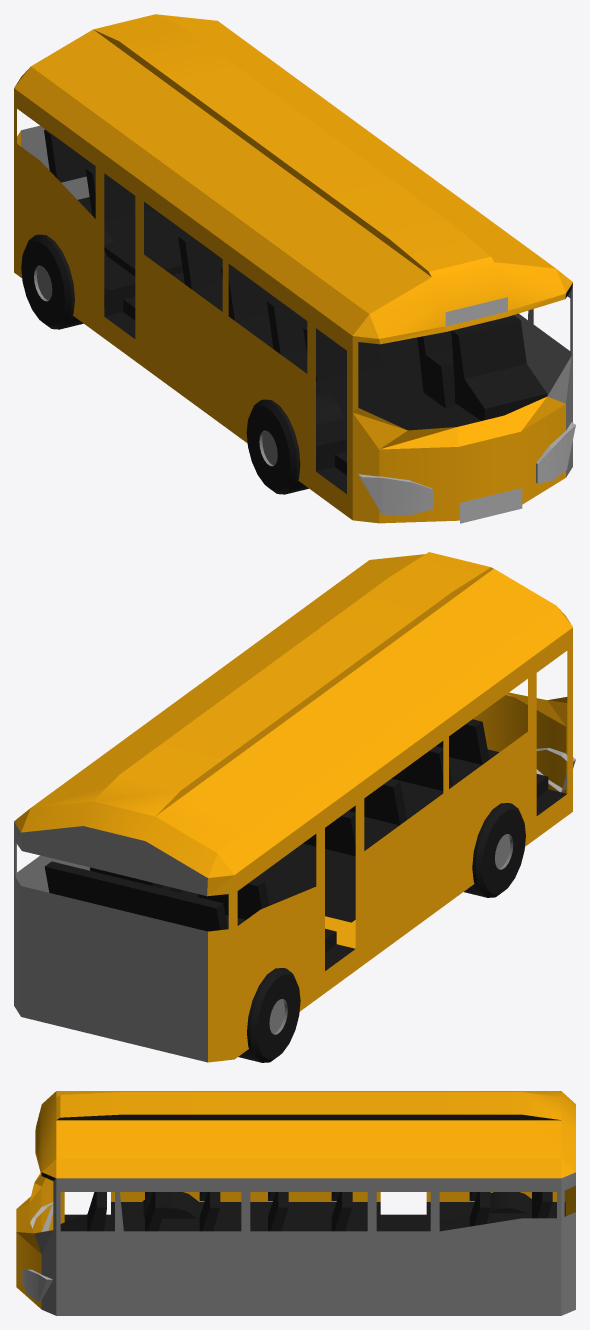
The model's file is SchoolBus.FBX.
The picture shows the model from 3 angles, top to bottom: view 1: azimuth 30°, elevation 25°; view 2: azimuth 150°, elevation 25°; view 3: azimuth 270°, elevation 25°; orthographic projection. The views are drawn at different scales.
Parts seen in each view (by area): view 1: SchoolBus; view 2: SchoolBus; view 3: SchoolBus.
Boxes of the visible parts, x1,y1,x2,y2 form: SchoolBus: (14,14,575,523); SchoolBus: (14,552,575,1062); SchoolBus: (16,1091,575,1315).
Size of the model in its own units: 1.68 by 1.81 by 4.81.
1 material, 1 textured.
